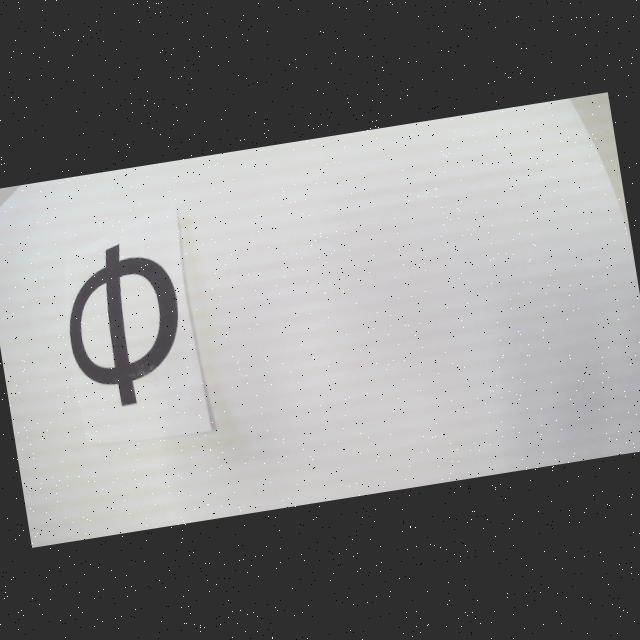PHI: (57, 237, 192, 412)
